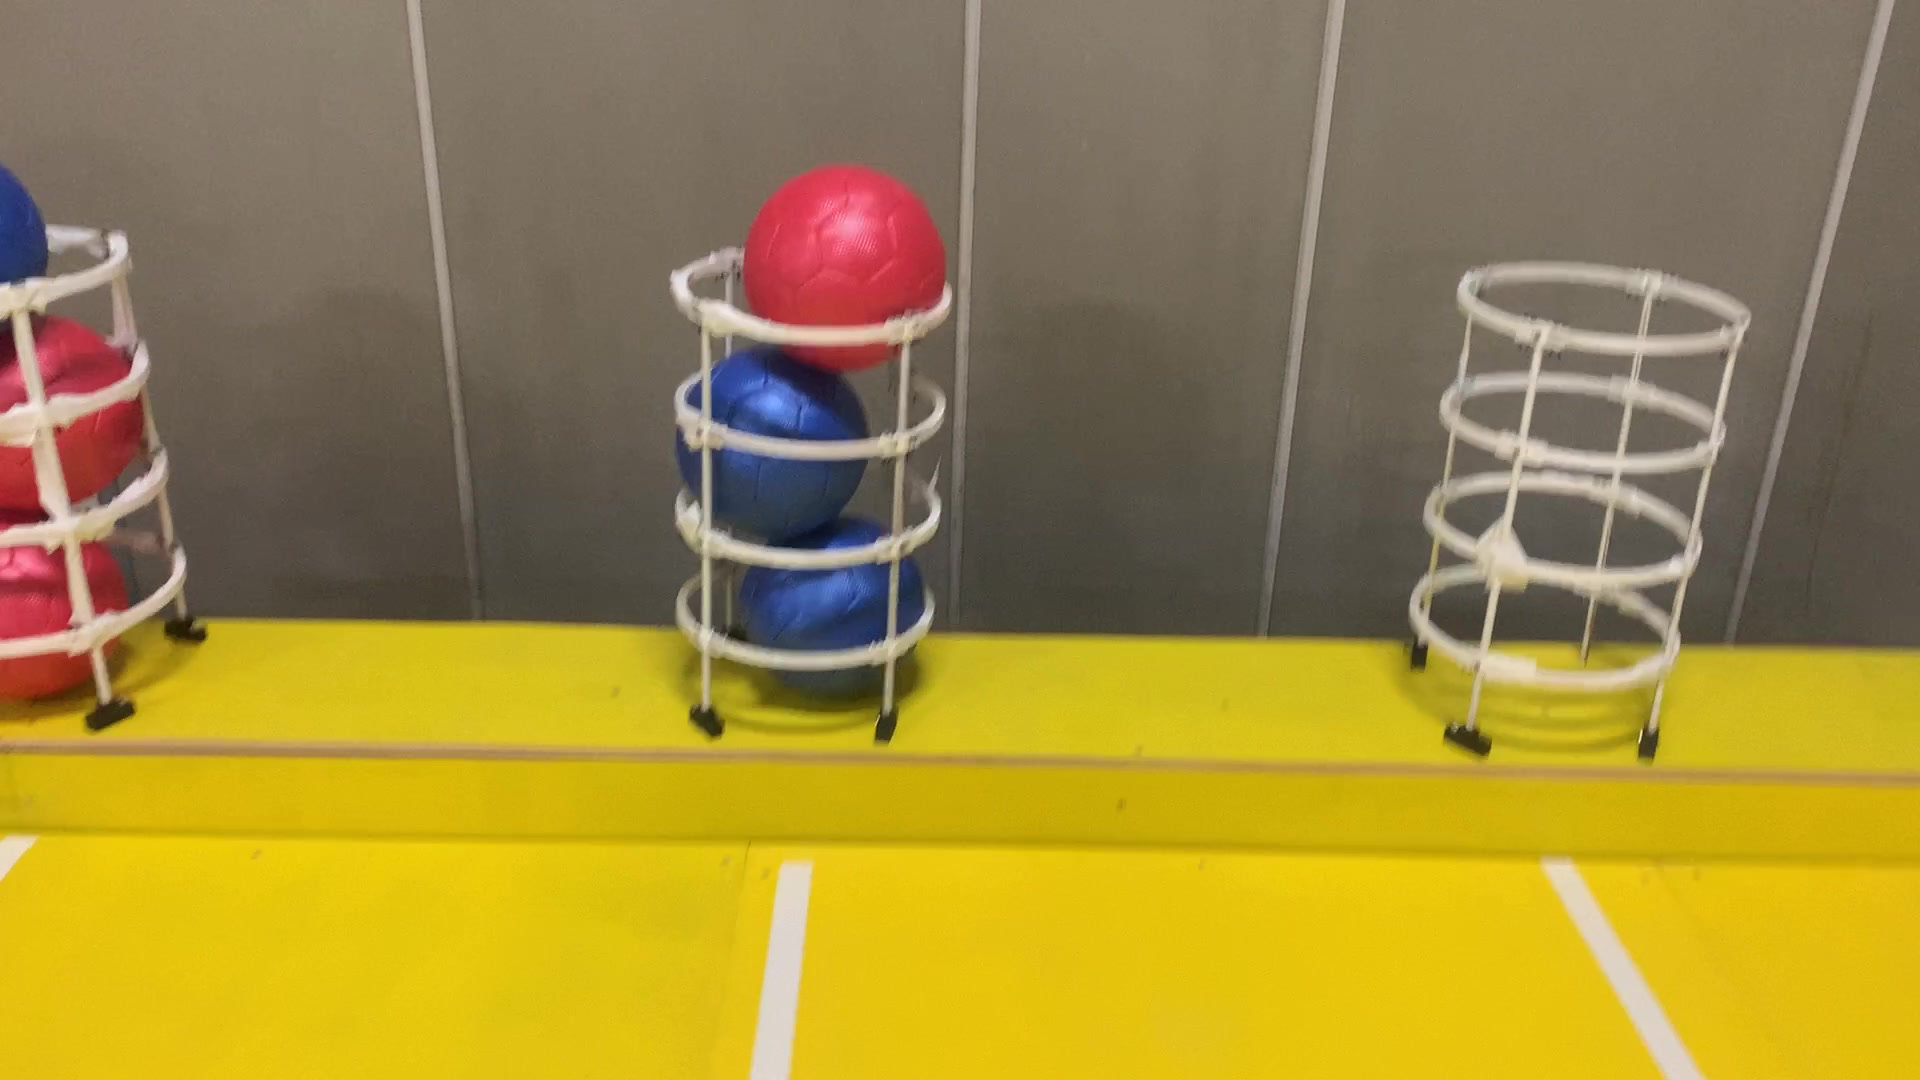blue: (725, 517, 926, 703), (675, 343, 878, 524), (0, 148, 53, 355)
red: (737, 160, 960, 371), (0, 289, 138, 520), (0, 498, 137, 699)
